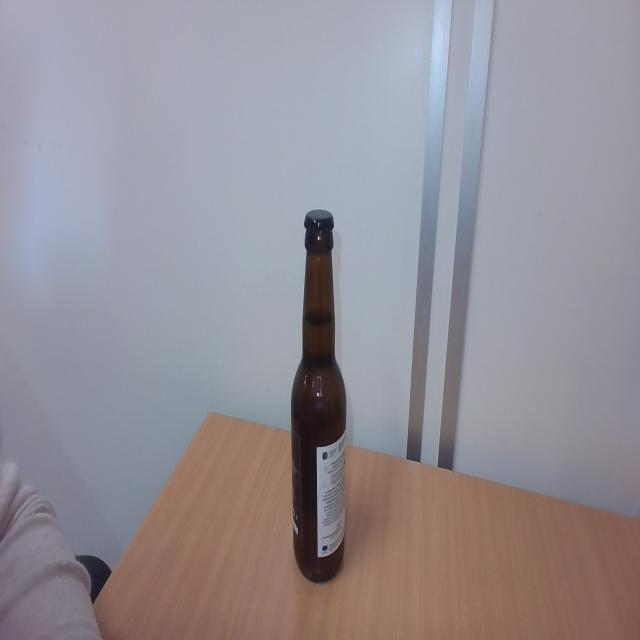Bottle: (290, 237, 346, 587)
Cap: (302, 205, 335, 235)
Label: (292, 429, 346, 562)
